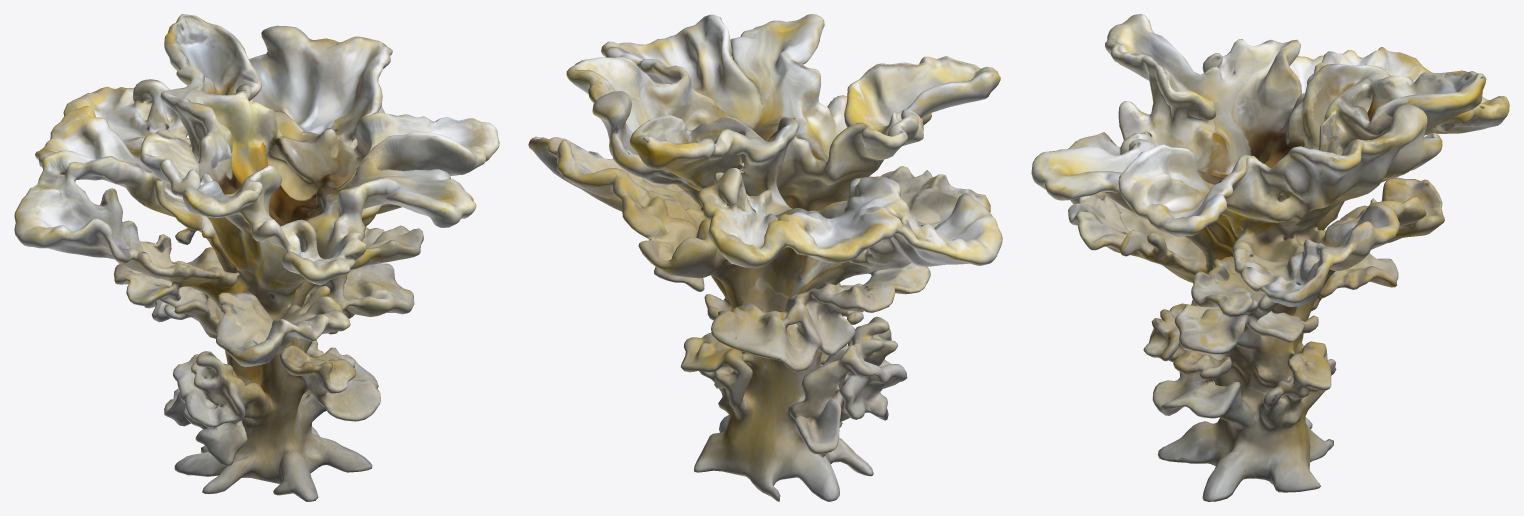
Rendered from Tremella_GLTF.gltf.
3 views of the same model, side by side, from view 1: azimuth 30°, elevation 25°; view 2: azimuth 150°, elevation 25°; view 3: azimuth 270°, elevation 25° (orthographic). The views are drawn at different scales.
Parts seen in each view (by area): view 1: Node #0; view 2: Node #0; view 3: Node #0.
Part boxes in pixels (x1,y1,x2,y2): Node #0: (14,14,499,501); Node #0: (528,14,1002,501); Node #0: (1031,14,1509,501).
Bounding box in the file's own units: 2 × 1.64 × 1.77.
1 material, 1 textured.
